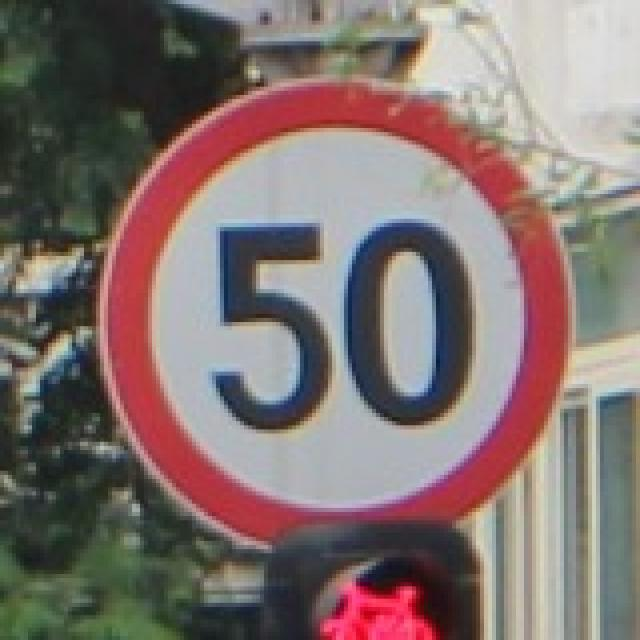Speed Limit -50-: (203, 218, 483, 444)
